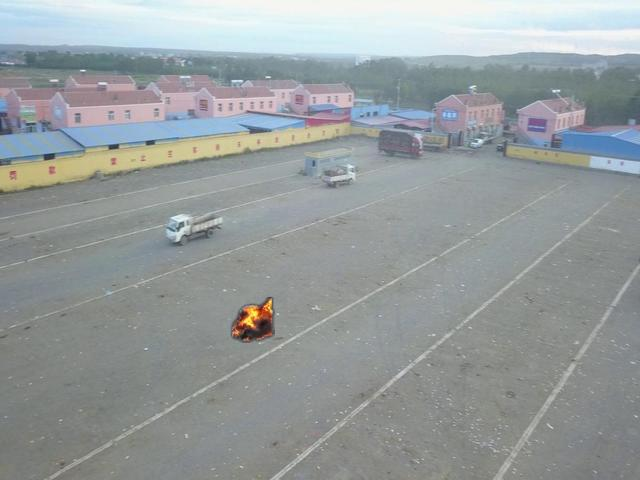fire: (231, 298, 273, 341)
